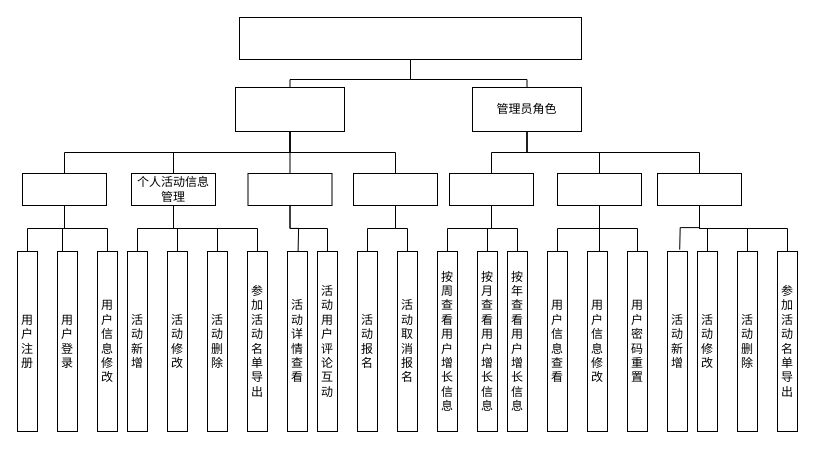
Some shapes in this 815 by 449 pixel diagram are drawn without their labels. Here are the shapes that lost their labels. From the top down, the centre of each, then its label:
(410,38): 基于 SpringBoot 和 Vue 校园活动报名系统
(289,109): 用户角色
(64,189): 个人用户信息管理
(289,189): 活动详情
(395,189): 活动报名与退出
(491,189): 用户增长信息查看
(599,189): 全部用户信息管理
(699,189): 全部活动信息管理
